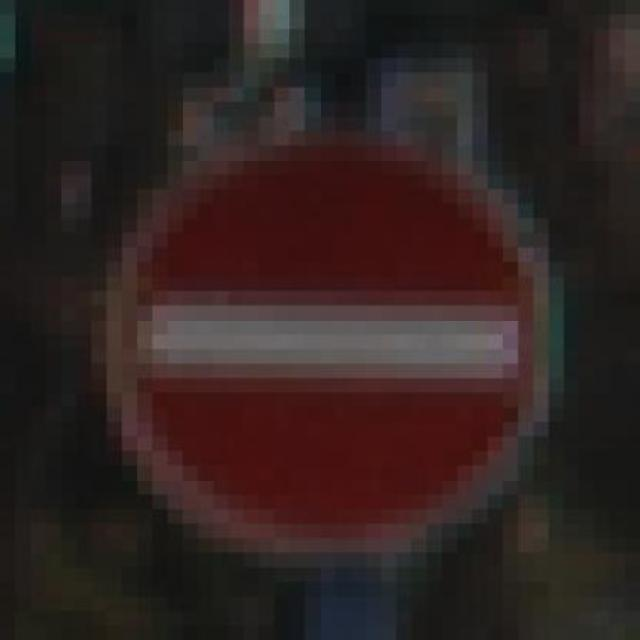No Entry: (74, 112, 608, 563)
